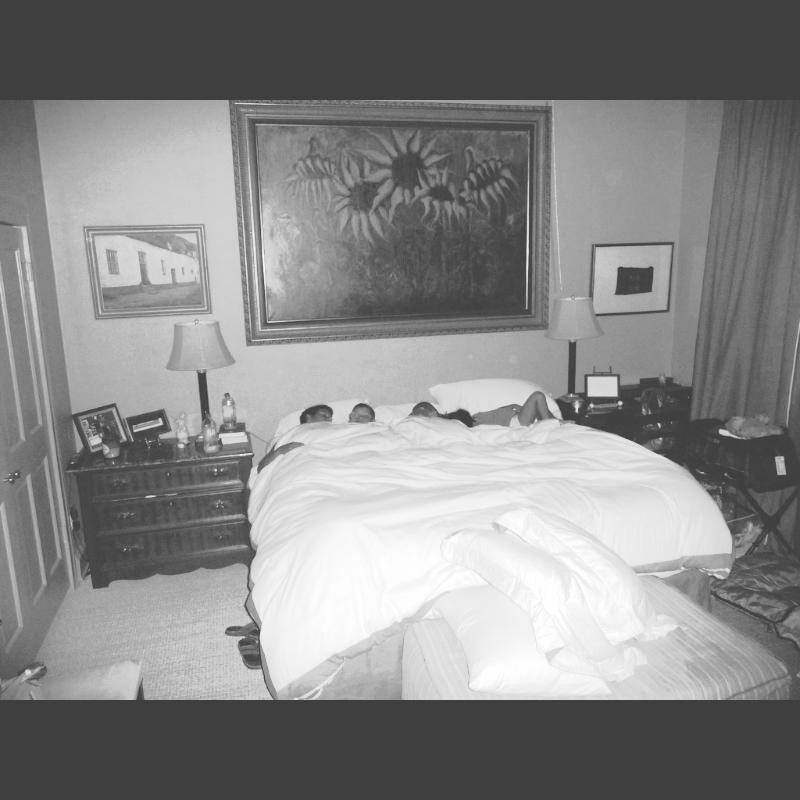pillow: (434, 525, 646, 681), (482, 506, 682, 643), (431, 583, 615, 695), (434, 377, 562, 423), (268, 398, 366, 438)
